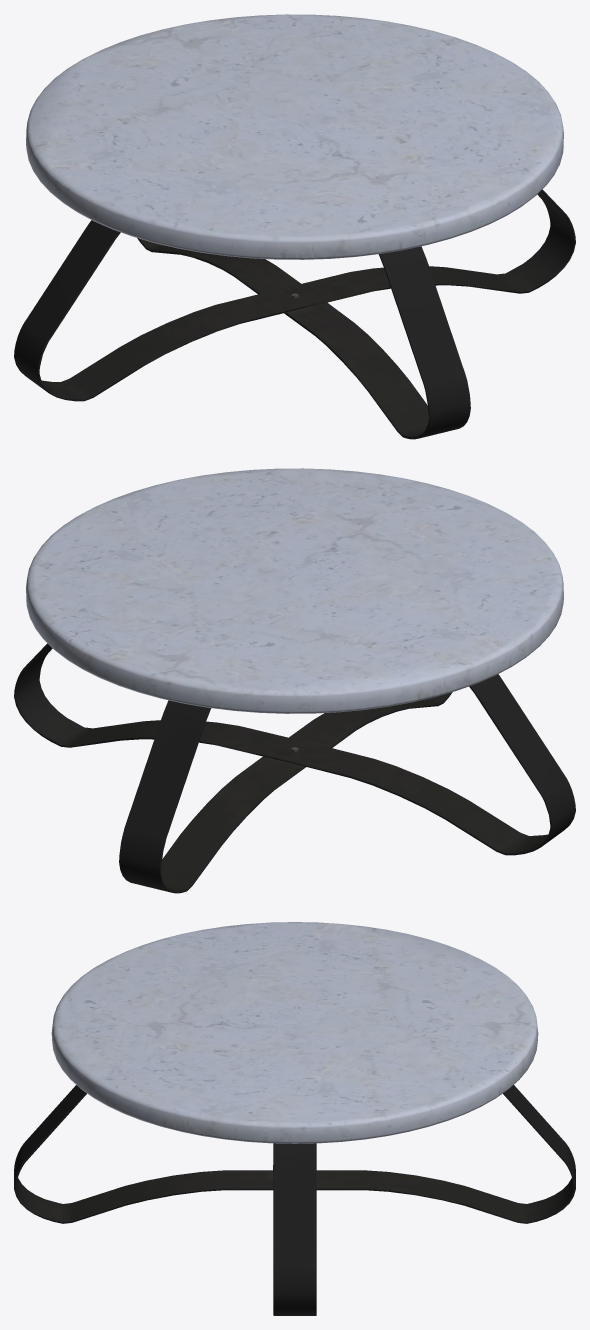
Rendered from coffee_table_round_01.glb.
3 views of the same model, one above another, from view 1: azimuth 30°, elevation 25°; view 2: azimuth 150°, elevation 25°; view 3: azimuth 270°, elevation 25° (orthographic). The views are drawn at different scales.
Parts seen in each view (by area): view 1: coffee_table_round_01; view 2: coffee_table_round_01; view 3: coffee_table_round_01.
Part boxes in pixels (<box>): coffee_table_round_01: <box>14,14,575,439</box>; coffee_table_round_01: <box>14,468,575,893</box>; coffee_table_round_01: <box>14,922,575,1315</box>.
Bounding box in the file's own units: 1.3 × 0.4909 × 1.3.
Materials: 1 (1 with a texture image).
